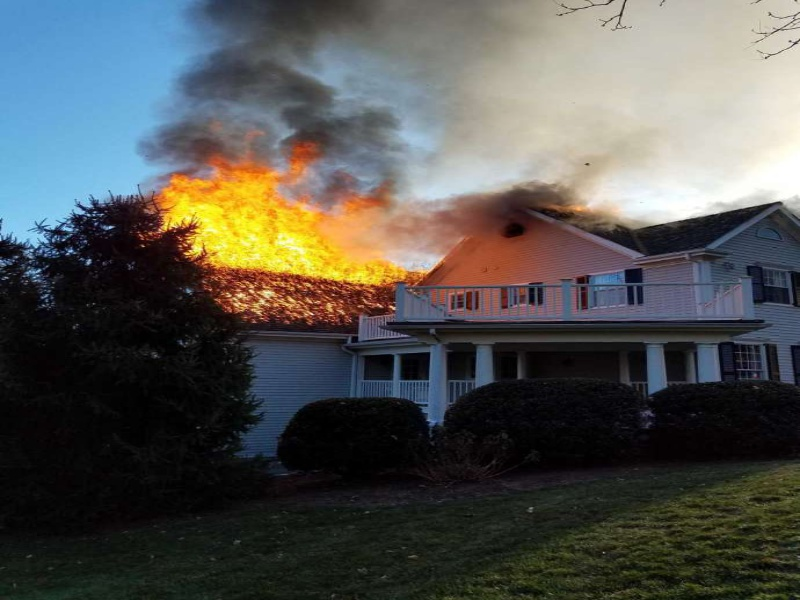fire: (129, 157, 414, 284)
